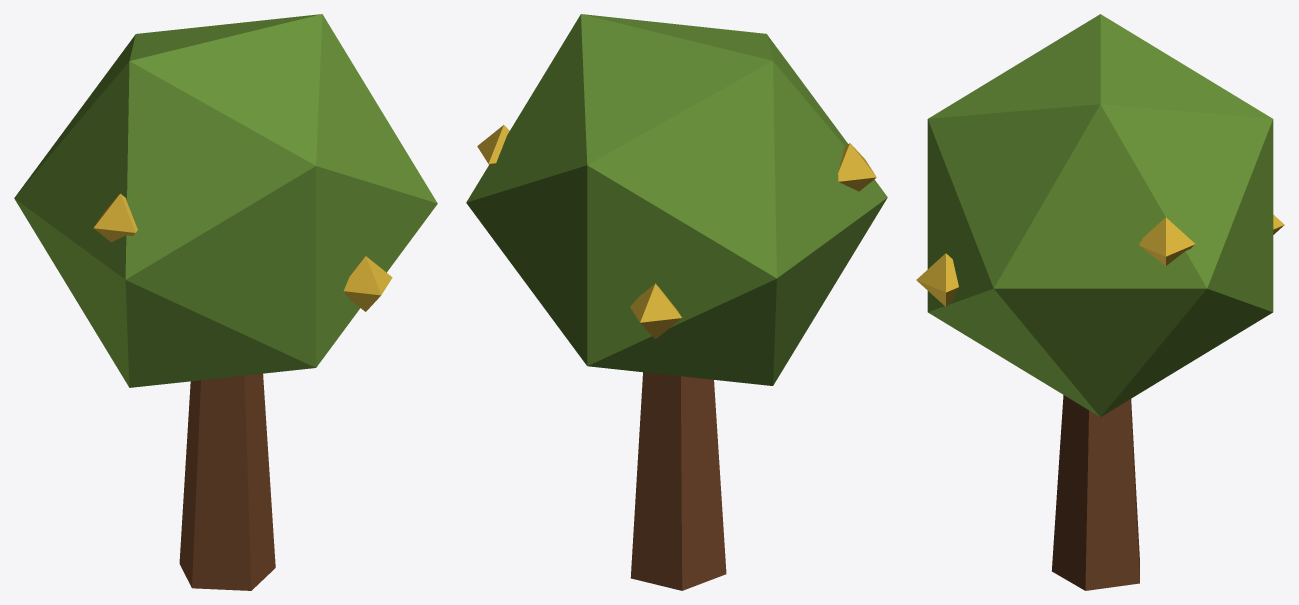
File: biome-orchard-pearTree.glb
The picture shows the model from 3 angles, left to right: view 1: azimuth 30°, elevation 25°; view 2: azimuth 150°, elevation 25°; view 3: azimuth 270°, elevation 25°; orthographic projection. The views are drawn at different scales.
Size of the model in its own units: 1.36 by 2.09 by 1.36.
